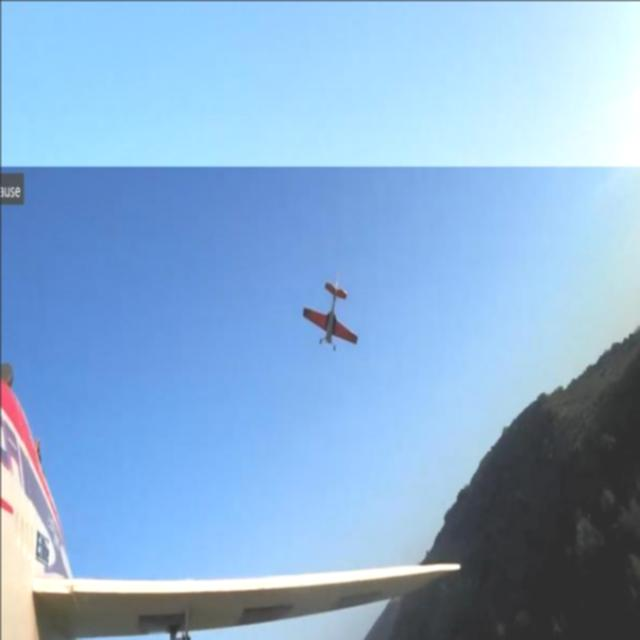plane: (218, 254, 568, 469)
